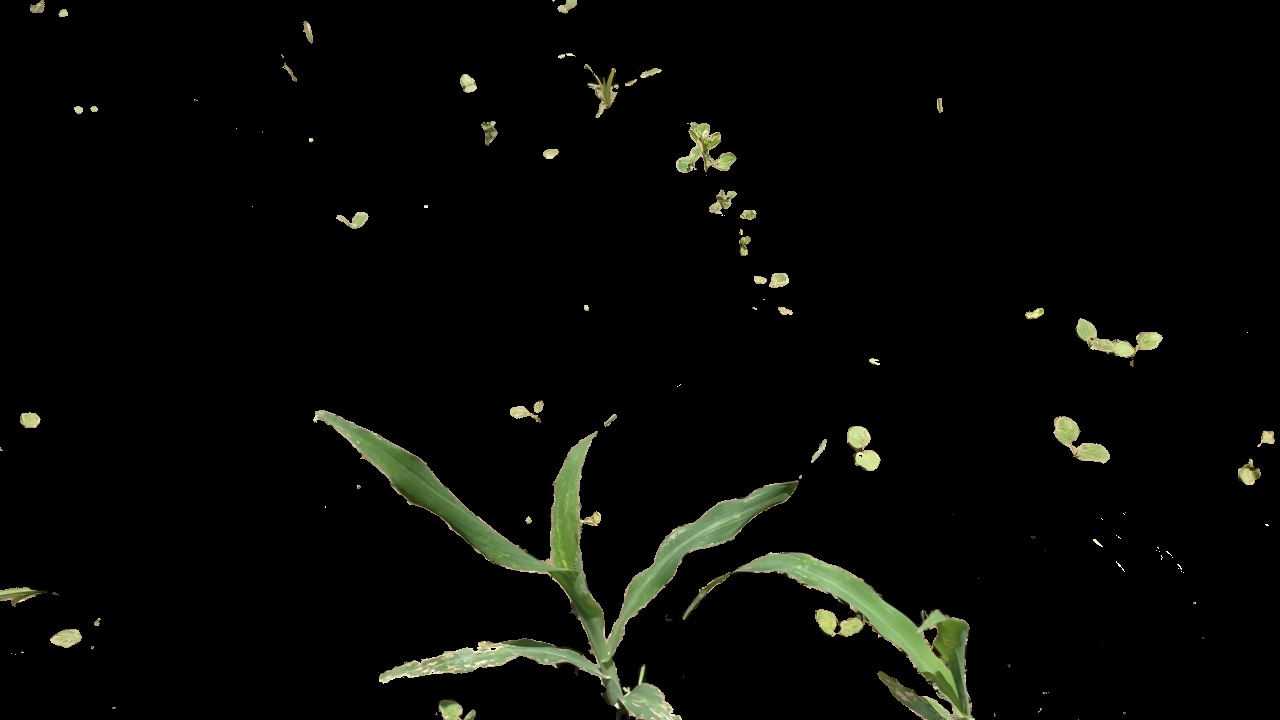crop: (296, 404, 758, 720), (698, 545, 1006, 720)
weed: (551, 47, 651, 125), (1069, 307, 1166, 369), (1048, 409, 1118, 468), (681, 118, 733, 179), (1232, 419, 1275, 491), (845, 421, 895, 479), (803, 607, 862, 648), (323, 202, 376, 232), (743, 271, 802, 297), (473, 112, 503, 149), (433, 697, 479, 720), (510, 403, 550, 428), (708, 191, 738, 224), (453, 72, 482, 102)
